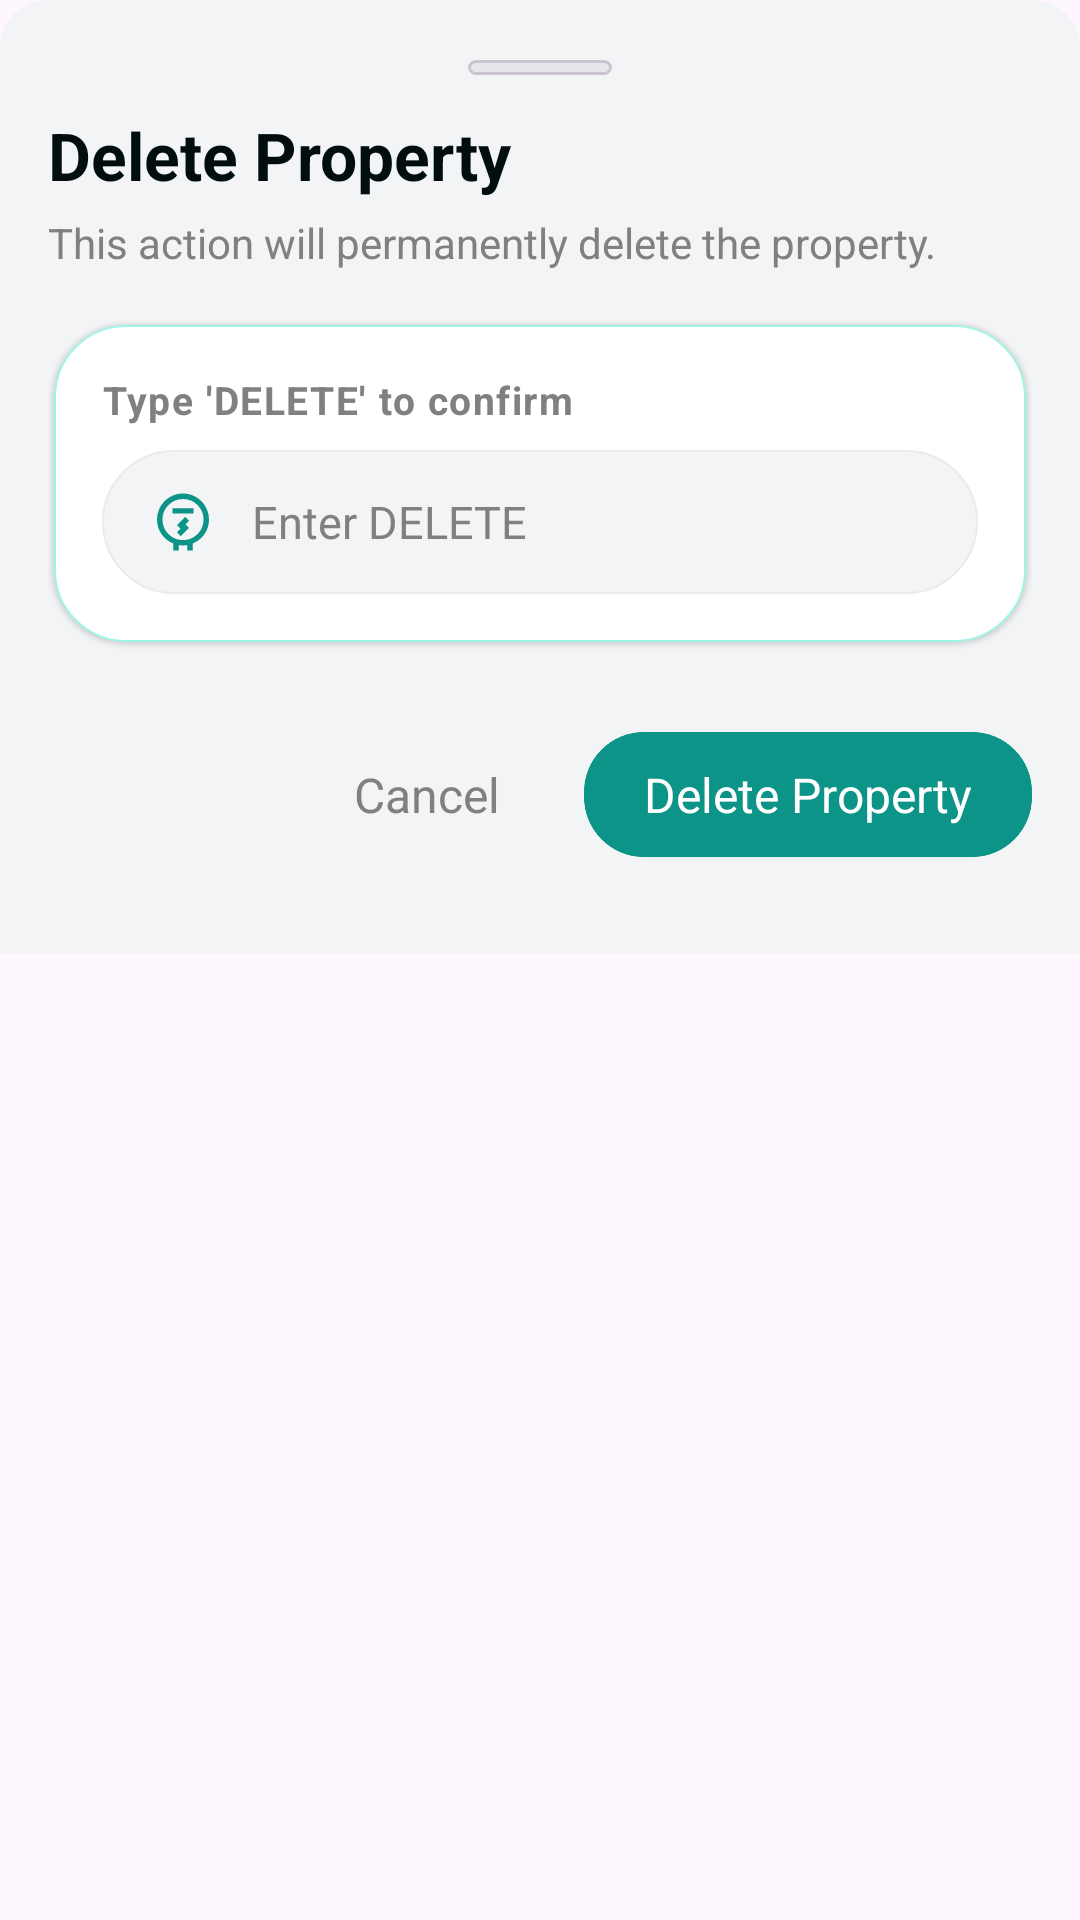

Icons on this 1080×1920 Android screen, each with its box as rect(x1, y1, x2, y2):
meter reading: rect(157, 493, 209, 551)
